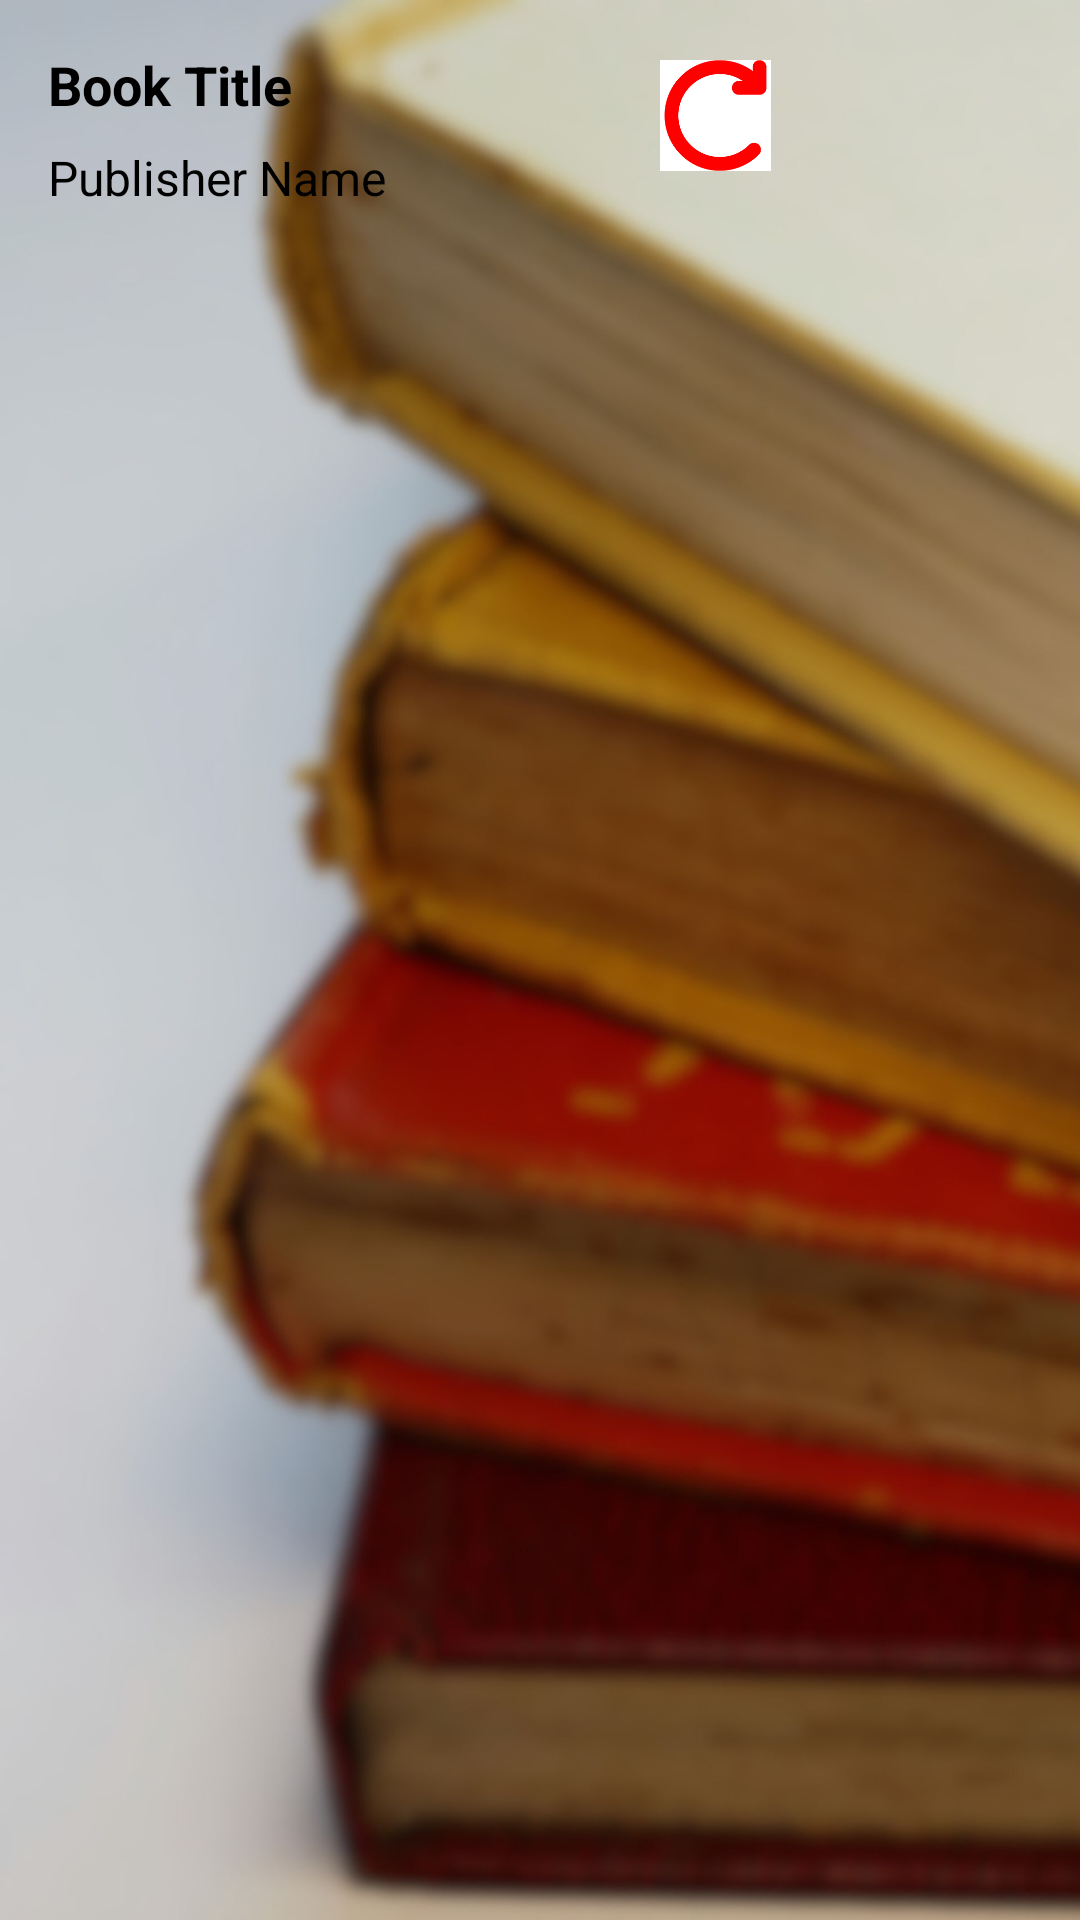

Named icons in this screenshot (1080×1920) and their bounding boxes, (left=x1, top=y1, right=x2, bottom=y2):
update: (left=660, top=60, right=771, bottom=171)
